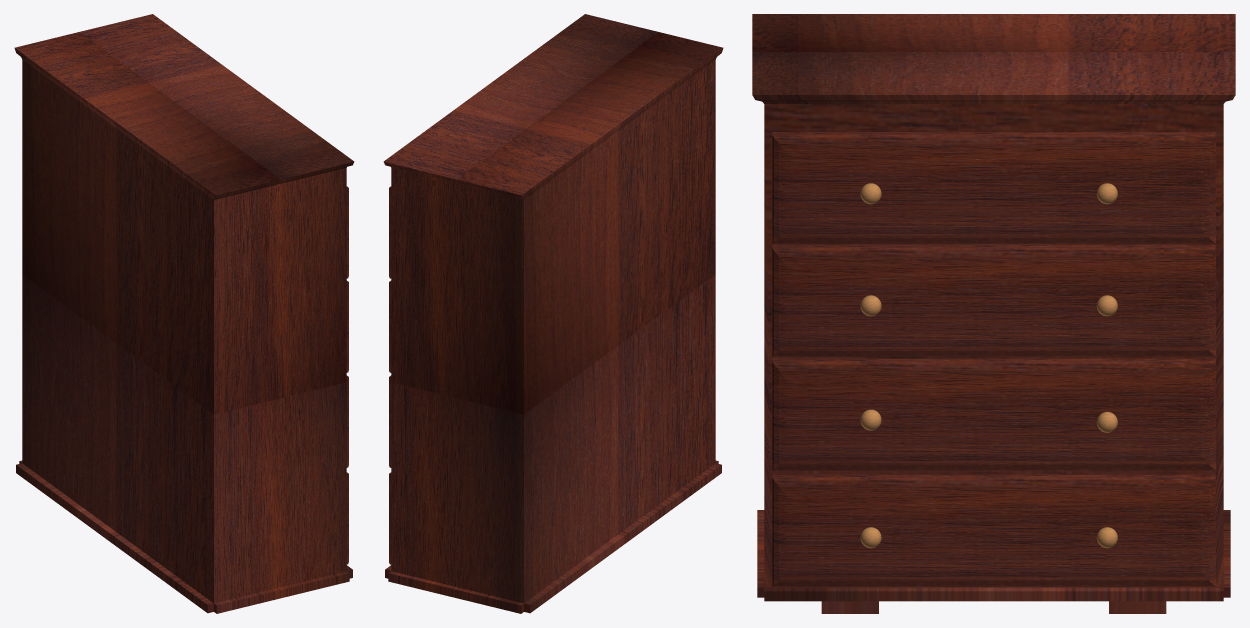
File: commode.fbx
3 renders of one model, left to right at view 1: azimuth 30°, elevation 25°; view 2: azimuth 150°, elevation 25°; view 3: azimuth 270°, elevation 25°, orthographic. The views are drawn at different scales.
Parts seen in each view (by area): view 1: Cube; view 2: Cube; view 3: Cube.
Part boxes in pixels (x1,y1,x2,y2): Cube: [14, 14, 354, 613]; Cube: [383, 14, 723, 613]; Cube: [752, 14, 1235, 613].
Size of the model in its own units: 390 by 1019 by 842.
Materials: 2 (2 with a texture image).
